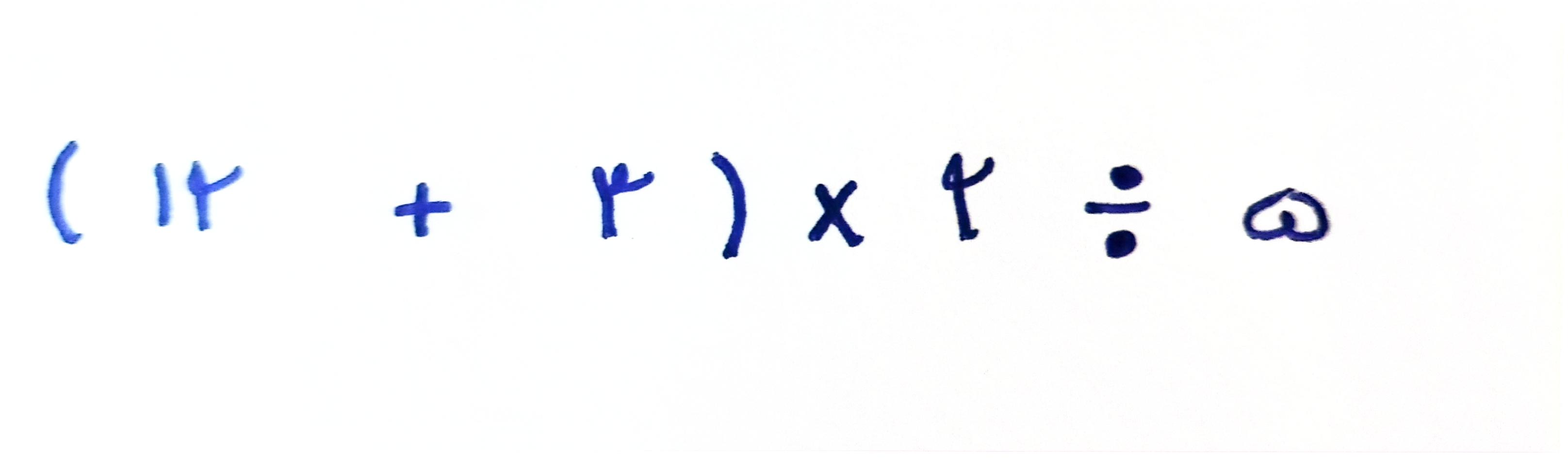character: (1086, 166, 1149, 259), (943, 151, 997, 239), (1245, 186, 1330, 241), (593, 162, 653, 239), (186, 157, 241, 231), (806, 179, 864, 246), (712, 152, 747, 258), (394, 182, 454, 238), (47, 139, 79, 243), (156, 159, 169, 231)
